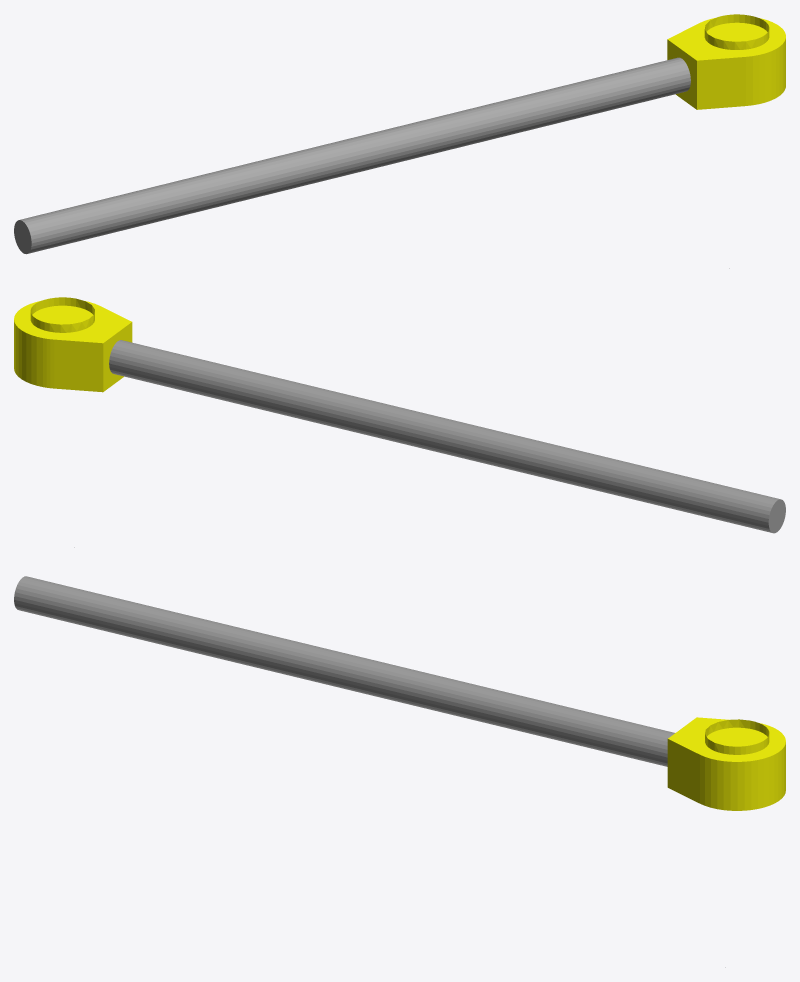
3 views of the same model, one above another, from view 1: azimuth 30°, elevation 25°; view 2: azimuth 150°, elevation 25°; view 3: azimuth 330°, elevation 25° (orthographic).
Parts seen in each view (by area): view 1: node; view 2: node; view 3: node.
Part boxes in pixels (left/top/right/bottom): node: left=14, top=14, right=785, bottom=268; node: left=14, top=297, right=785, bottom=547; node: left=14, top=576, right=785, bottom=967.
Size of the model in its own units: 1000 by 298 by 112.
